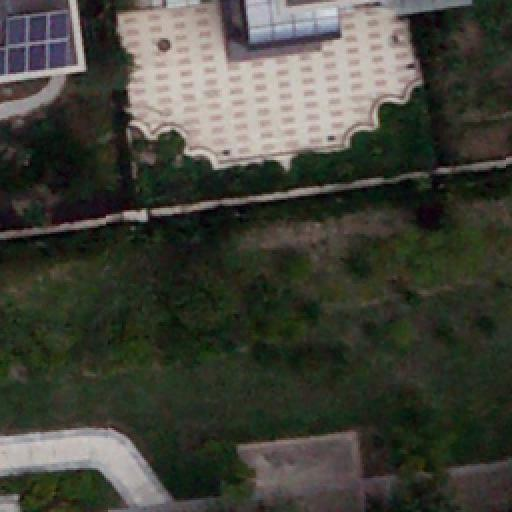solar-panel: (0, 12, 68, 76)
